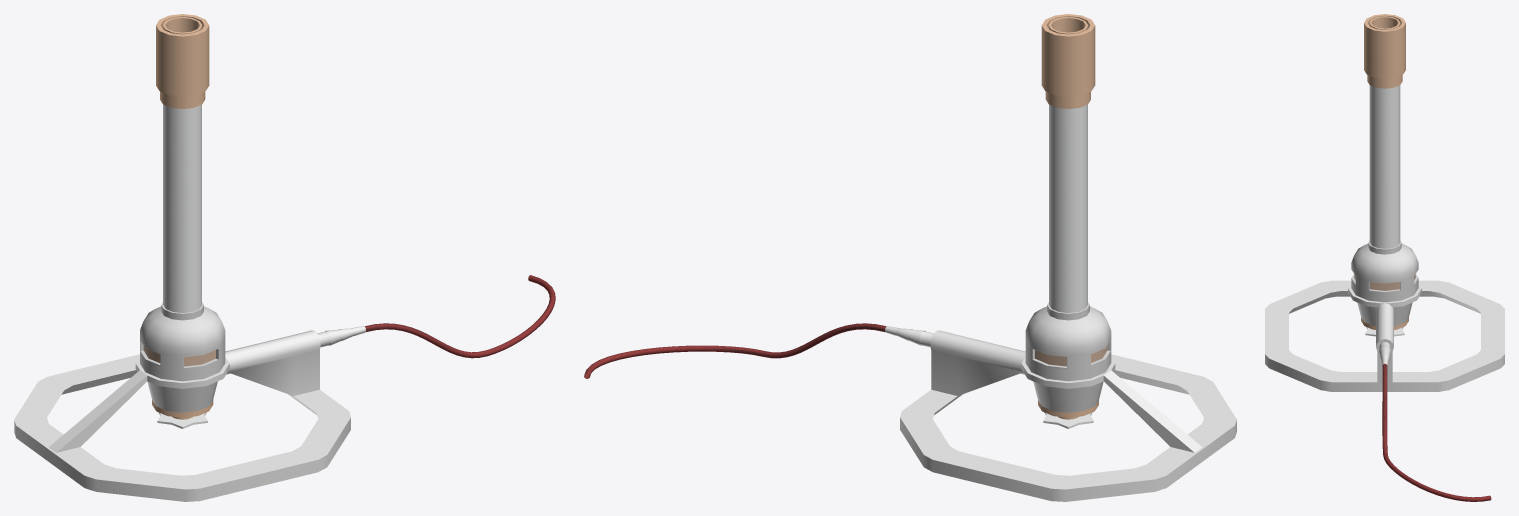
Rendered from bunsen_burner.glb.
3 renders of one model, left to right at view 1: azimuth 30°, elevation 25°; view 2: azimuth 150°, elevation 25°; view 3: azimuth 270°, elevation 25°, orthographic. The views are drawn at different scales.
Visible parts, largest first — view 1: Bunsen_Burner, Pipe; view 2: Bunsen_Burner, Pipe; view 3: Bunsen_Burner, Pipe.
Part boxes in pixels (<box>): Bunsen_Burner: <box>14,14,365,501</box>; Pipe: <box>365,275,555,358</box>; Bunsen_Burner: <box>885,14,1236,501</box>; Pipe: <box>584,323,886,378</box>; Bunsen_Burner: <box>1265,14,1504,391</box>; Pipe: <box>1382,364,1491,501</box>.
Bounding box in the file's own units: 0.2093 × 0.1465 × 0.1.
1 material, 1 textured.
